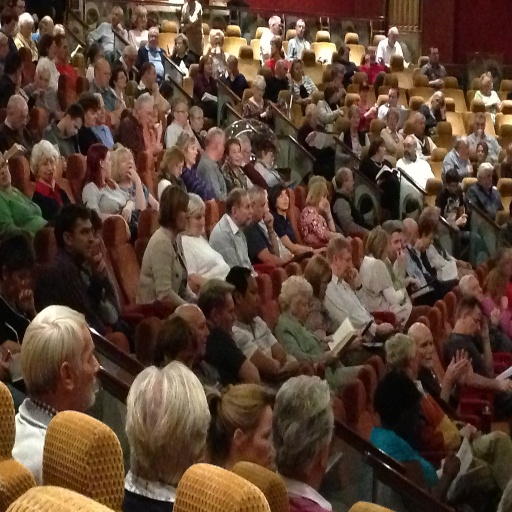hand: (444, 356, 469, 382), (443, 450, 461, 484), (90, 251, 108, 282), (16, 288, 36, 312), (348, 334, 369, 352), (459, 425, 480, 442), (344, 266, 361, 284), (476, 313, 488, 338), (377, 322, 395, 336), (395, 247, 406, 269), (126, 167, 140, 183), (456, 211, 469, 228), (409, 275, 421, 293), (121, 204, 132, 222), (500, 377, 511, 395), (488, 307, 503, 320), (262, 211, 273, 228), (491, 310, 502, 327), (458, 259, 472, 271), (323, 350, 333, 364), (323, 196, 331, 213), (317, 245, 328, 256), (437, 98, 445, 113), (320, 335, 334, 343), (396, 319, 404, 332), (476, 126, 483, 136), (369, 106, 376, 114)
